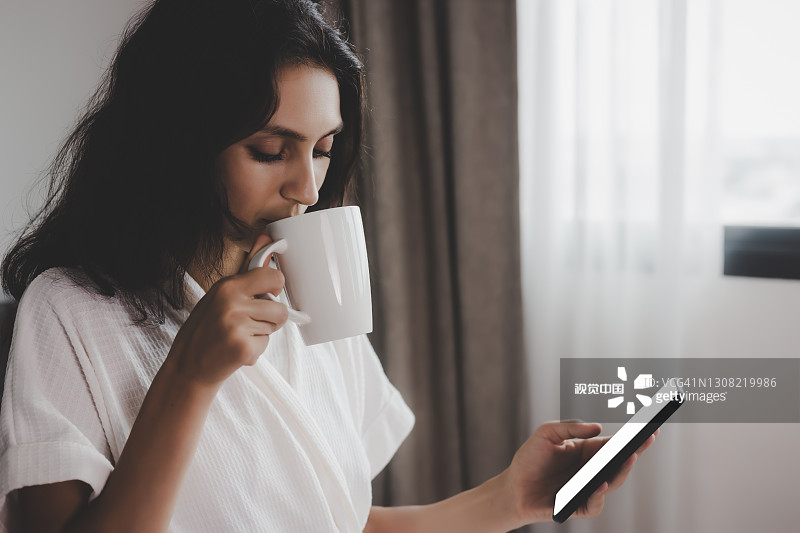no-phone: (152, 223, 329, 408)
reading: (492, 402, 676, 533)
